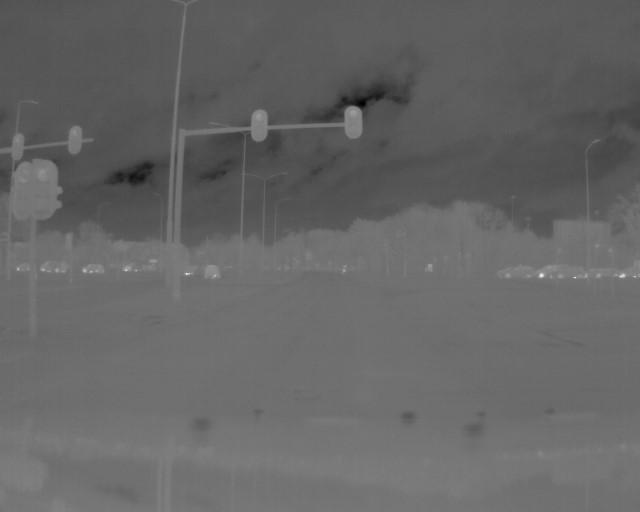car: (498, 265, 536, 279), (540, 265, 571, 280), (204, 262, 221, 282), (41, 260, 67, 273), (83, 262, 105, 276)
